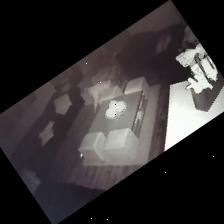person: (82, 80, 126, 112)
